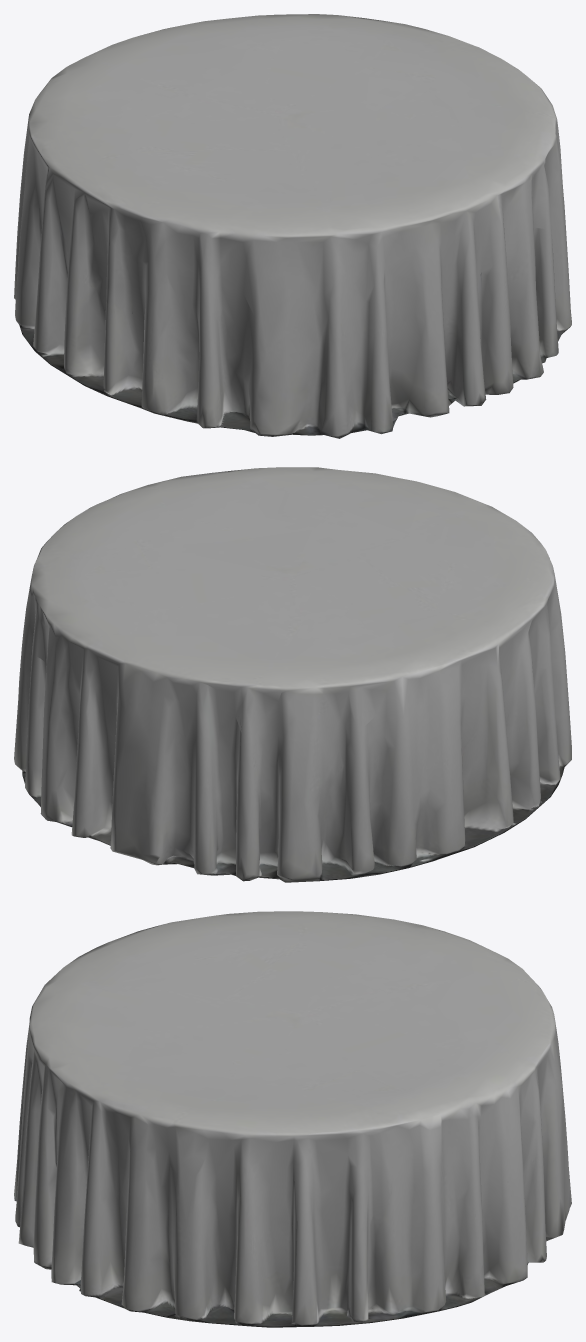
The model's file is meja_bundar_putih.glb.
3 renders of one model, top to bottom at view 1: azimuth 30°, elevation 25°; view 2: azimuth 150°, elevation 25°; view 3: azimuth 270°, elevation 25°, orthographic.
Visible parts, largest first — view 1: tripo_node_05602d07-4d79-468c-ab63-641d2823760d; view 2: tripo_node_05602d07-4d79-468c-ab63-641d2823760d; view 3: tripo_node_05602d07-4d79-468c-ab63-641d2823760d.
Boxes of the visible parts, x1=… form: tripo_node_05602d07-4d79-468c-ab63-641d2823760d: x1=14, y1=14, x2=571, y2=438; tripo_node_05602d07-4d79-468c-ab63-641d2823760d: x1=14, y1=467, x2=571, y2=882; tripo_node_05602d07-4d79-468c-ab63-641d2823760d: x1=14, y1=911, x2=571, y2=1327.
Size of the model in its own units: 0.9998 by 0.4099 by 1.
Materials: 1 (1 with a texture image).
